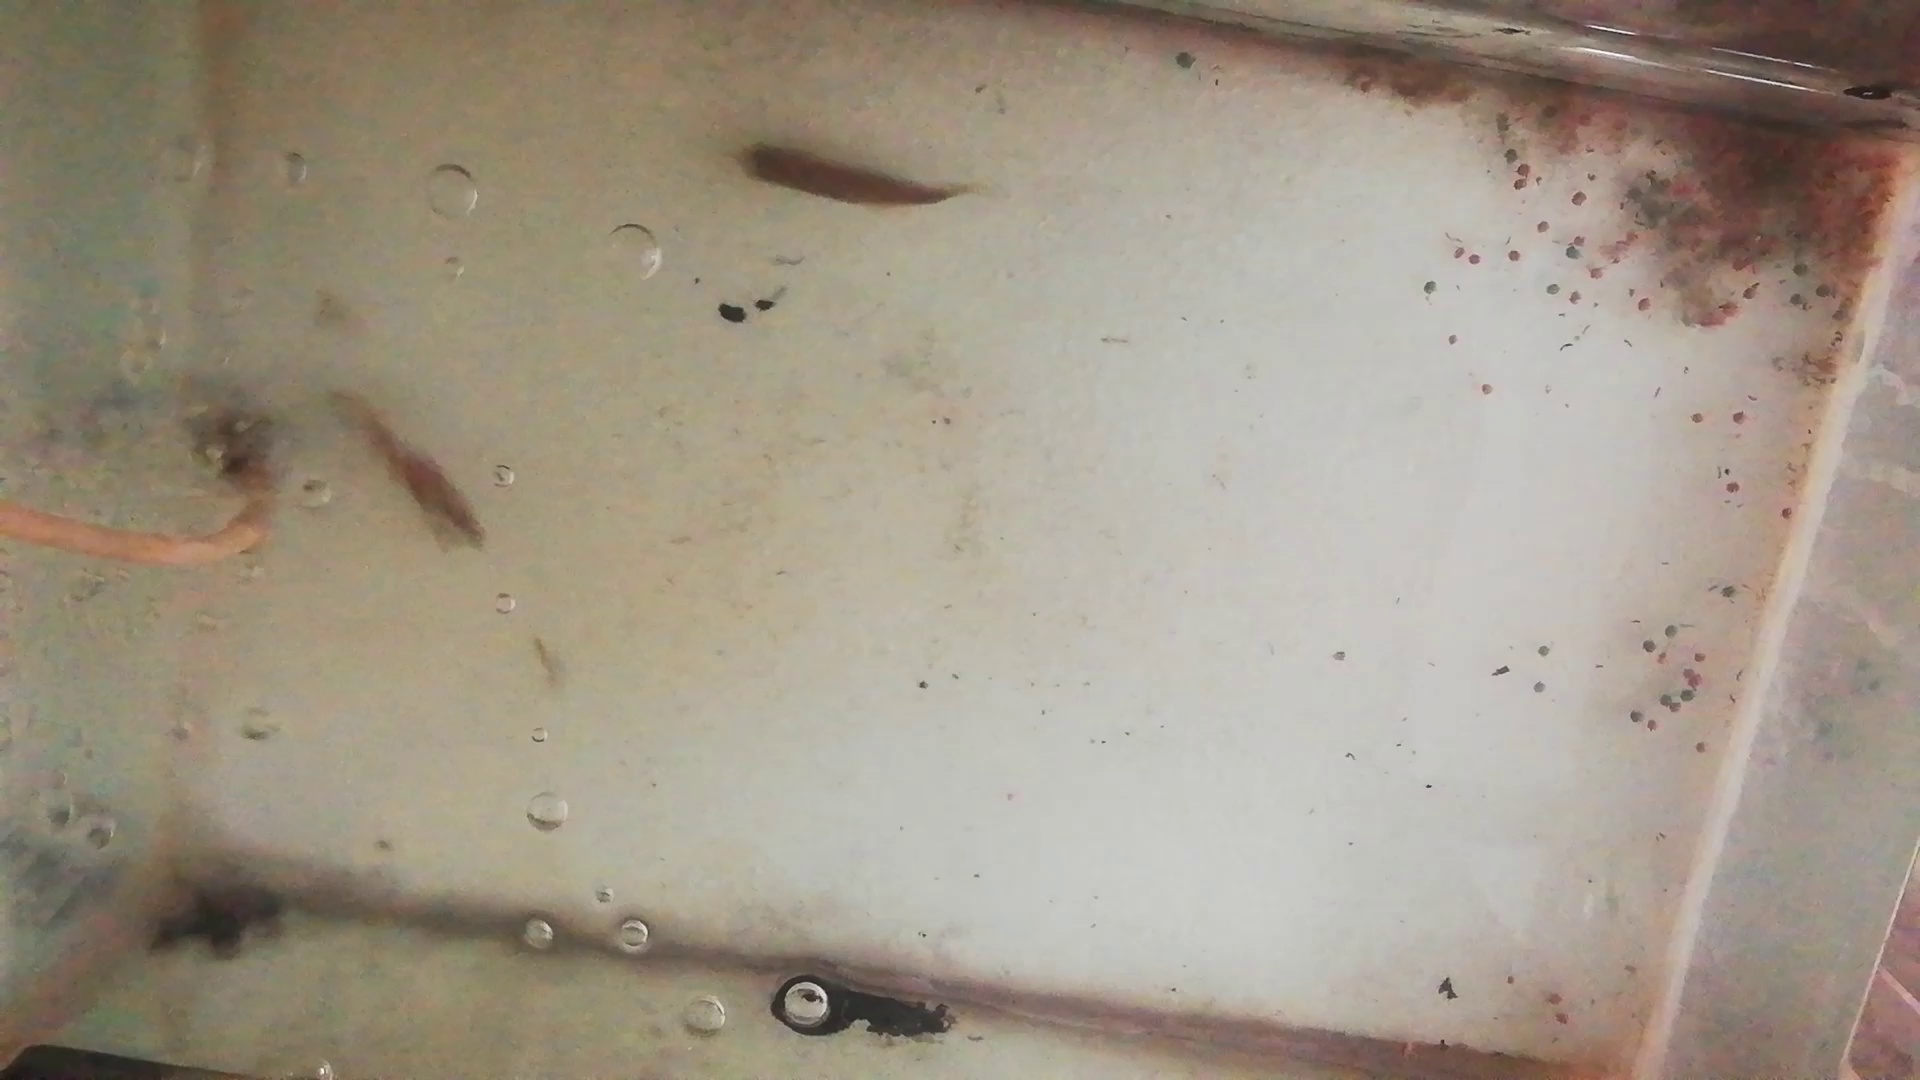fish: (322, 367, 491, 550), (731, 138, 961, 214)
